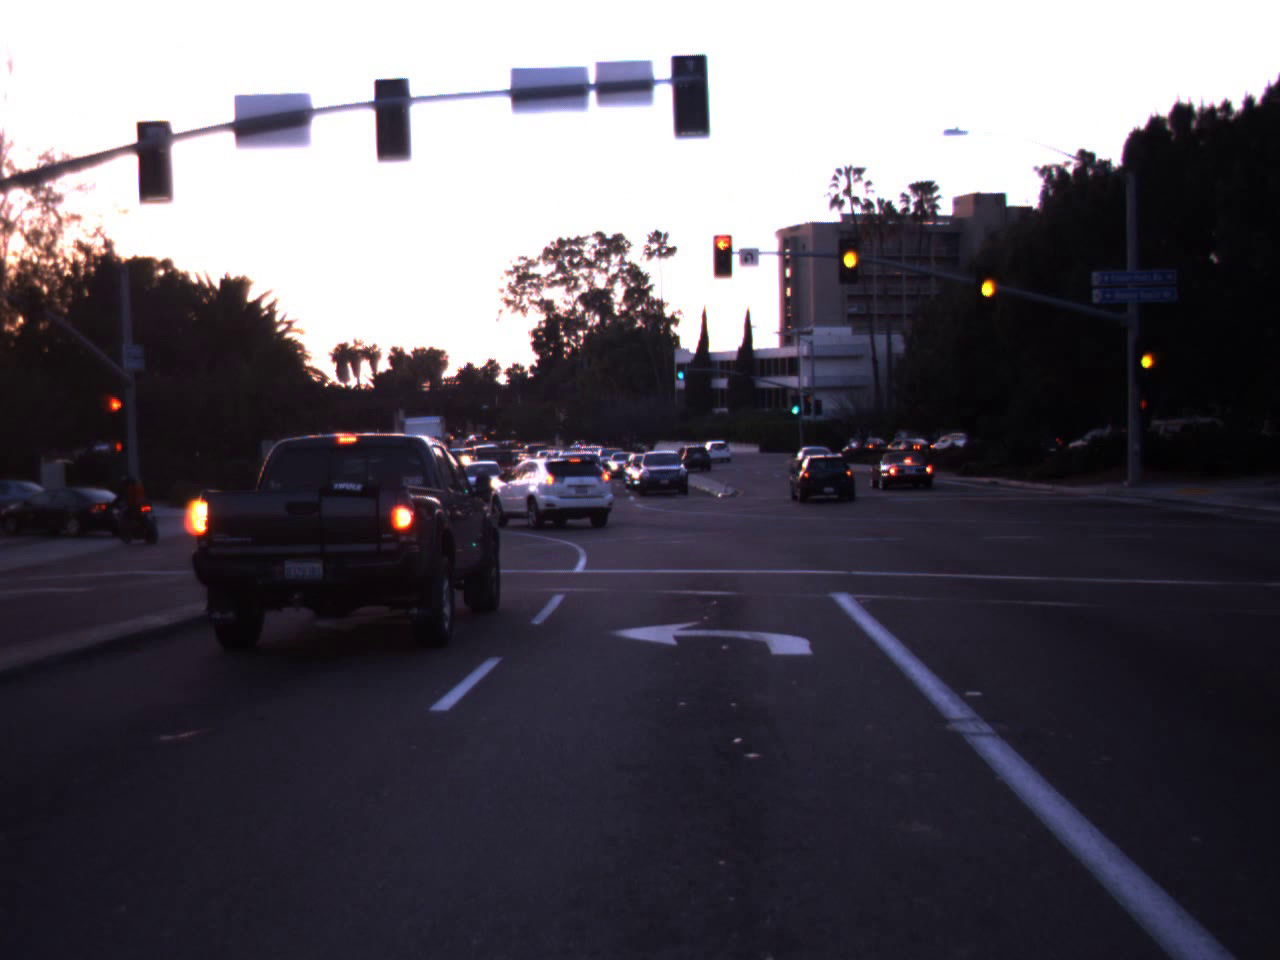go: (786, 386, 804, 416), (673, 355, 688, 380)
stop: (698, 229, 746, 287), (103, 393, 130, 442)
warning: (833, 222, 868, 289), (971, 254, 1004, 317), (1136, 332, 1160, 386)
